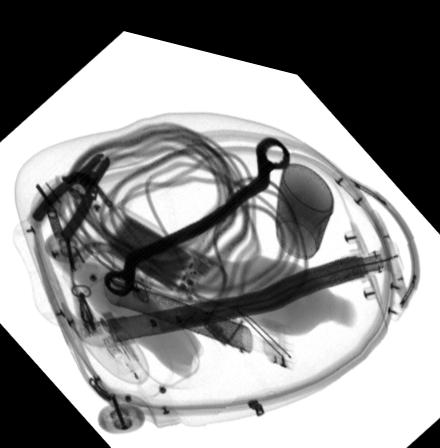Pliers: (31, 144, 112, 238)
Powerbank: (95, 196, 229, 310)
Wrench: (103, 123, 290, 291)
